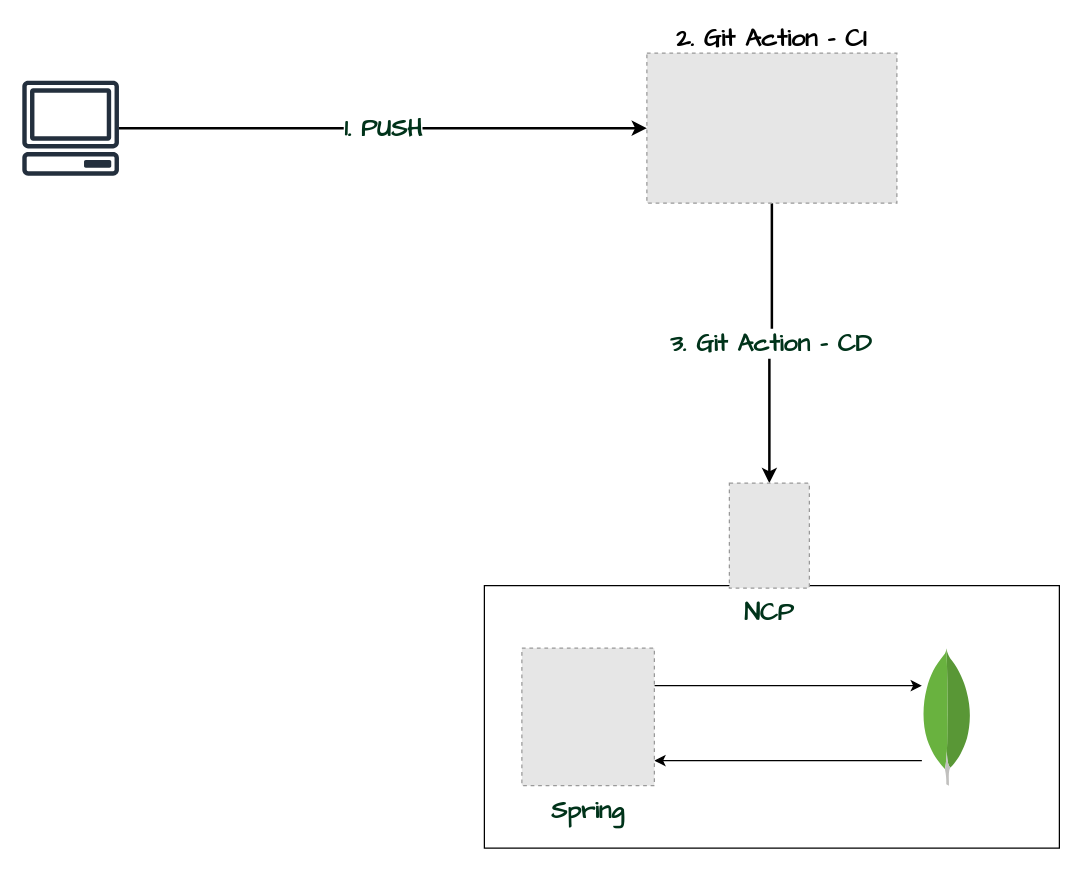
Image size: 1081x870. Some labels were removed from this diagram. Grey dashed boxes stand in for pictures. The centre of each missing label's shape, as x and y in pixels:
"Client" goes at [70,127].
"MongoDB" goes at [946,716].
